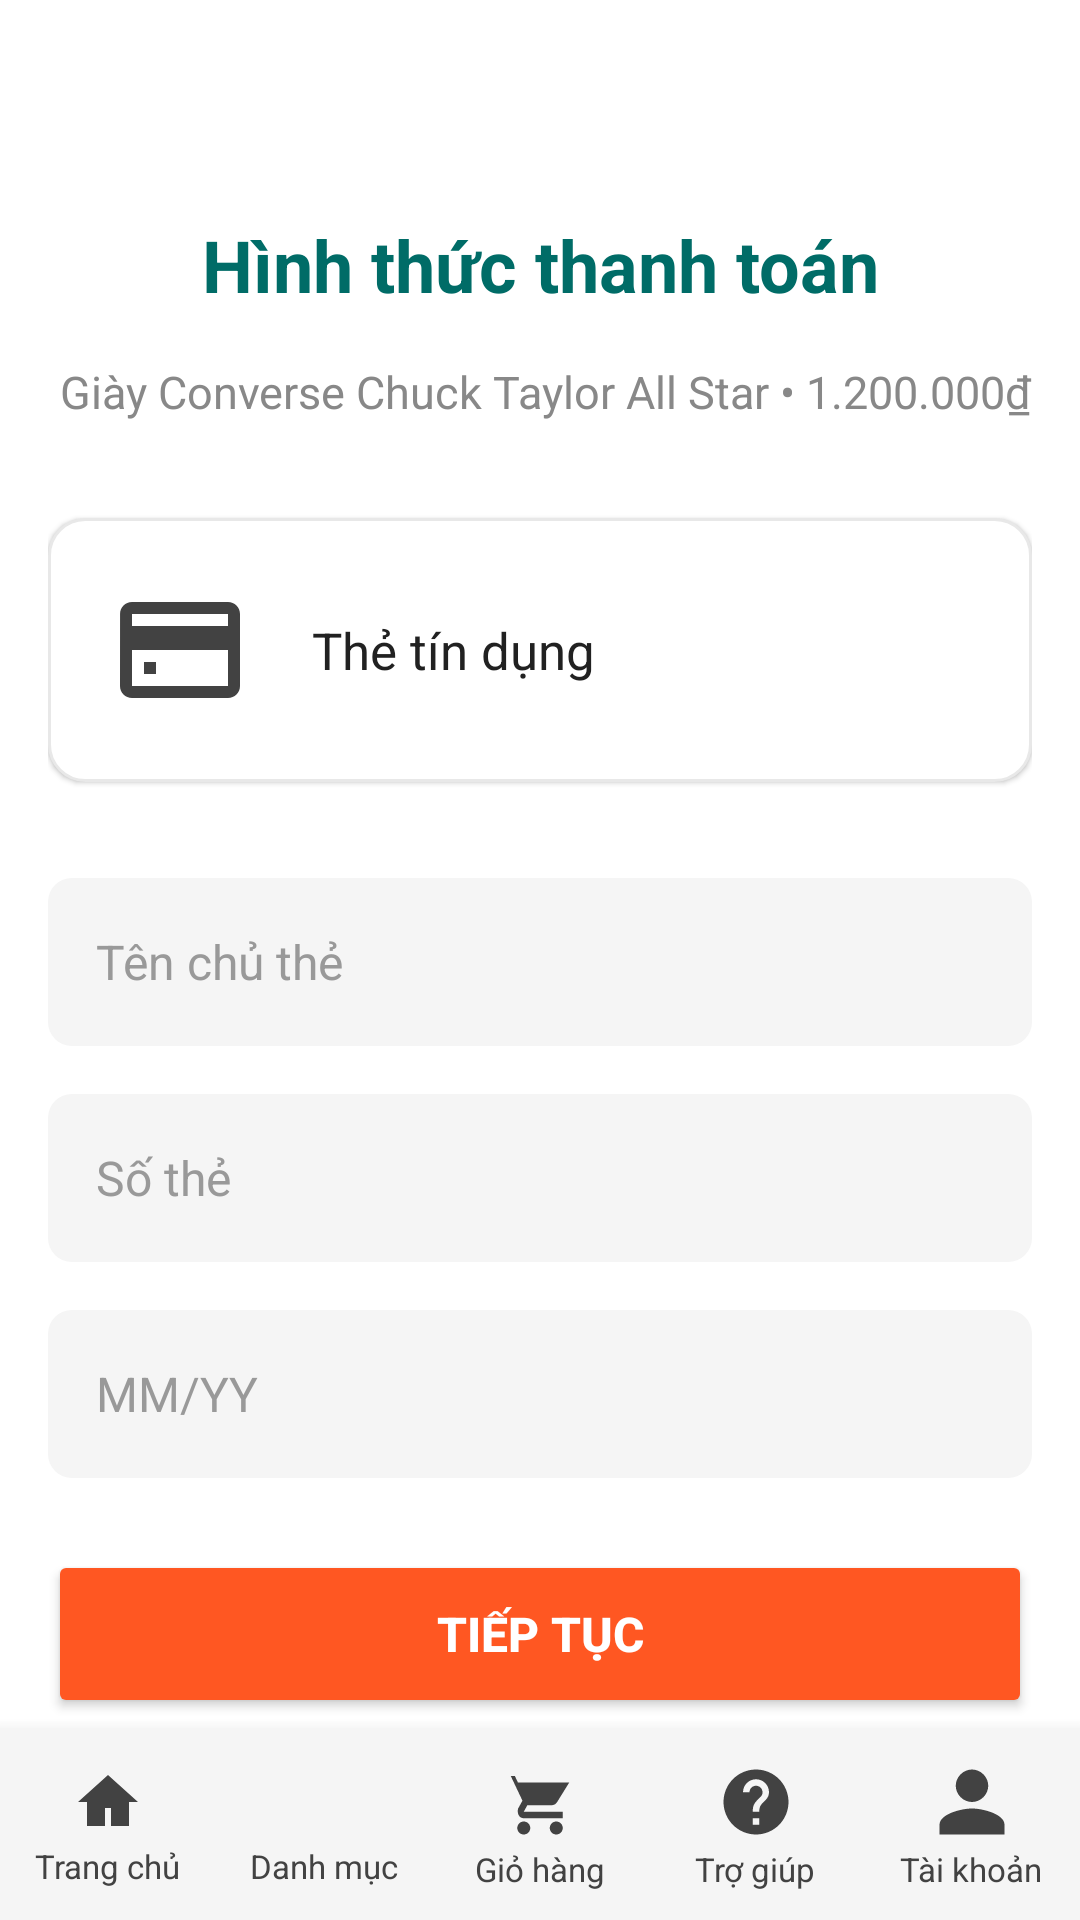

Icons on this 1080px×1920px Android screen, each with its box as [x1, y1, x2, y2]:
credit card: [120, 602, 240, 698]
